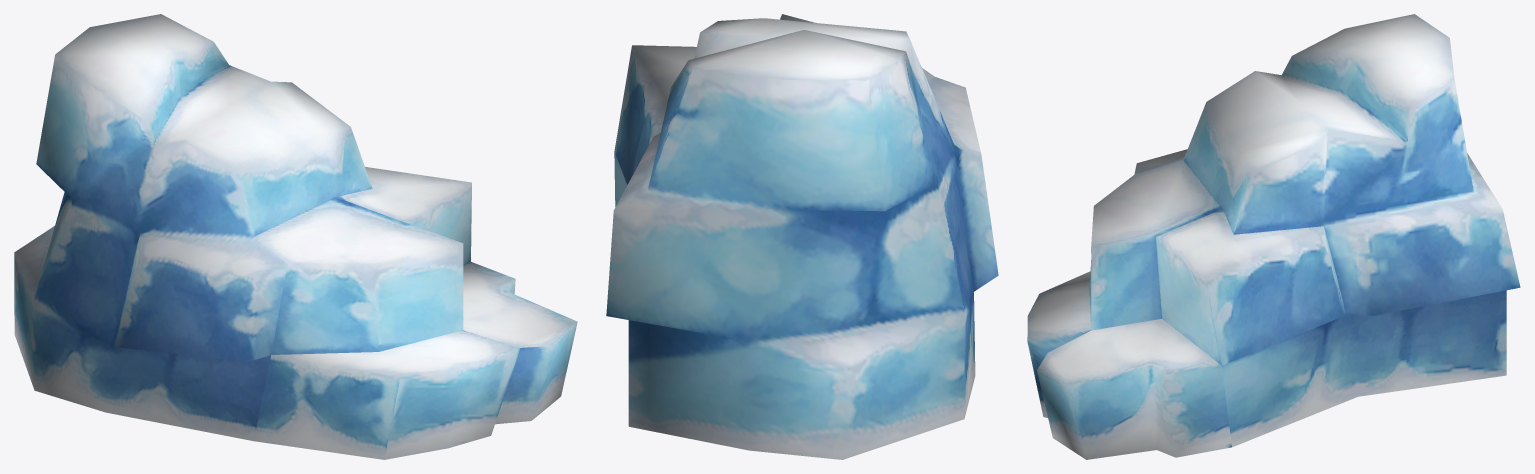
Rendered from SM_stoneD_07.fbx.
The picture shows the model from 3 angles, left to right: view 1: azimuth 30°, elevation 25°; view 2: azimuth 150°, elevation 25°; view 3: azimuth 270°, elevation 25°; orthographic projection. The views are drawn at different scales.
Visible parts, largest first — view 1: SM_stoneD_07; view 2: SM_stoneD_07; view 3: SM_stoneD_07.
Part boxes in pixels (x1,y1,x2,y2): SM_stoneD_07: [14, 14, 577, 459]; SM_stoneD_07: [606, 14, 998, 459]; SM_stoneD_07: [1027, 14, 1520, 459].
Bounding box in the file's own units: 2.46 × 1.78 × 2.75.
